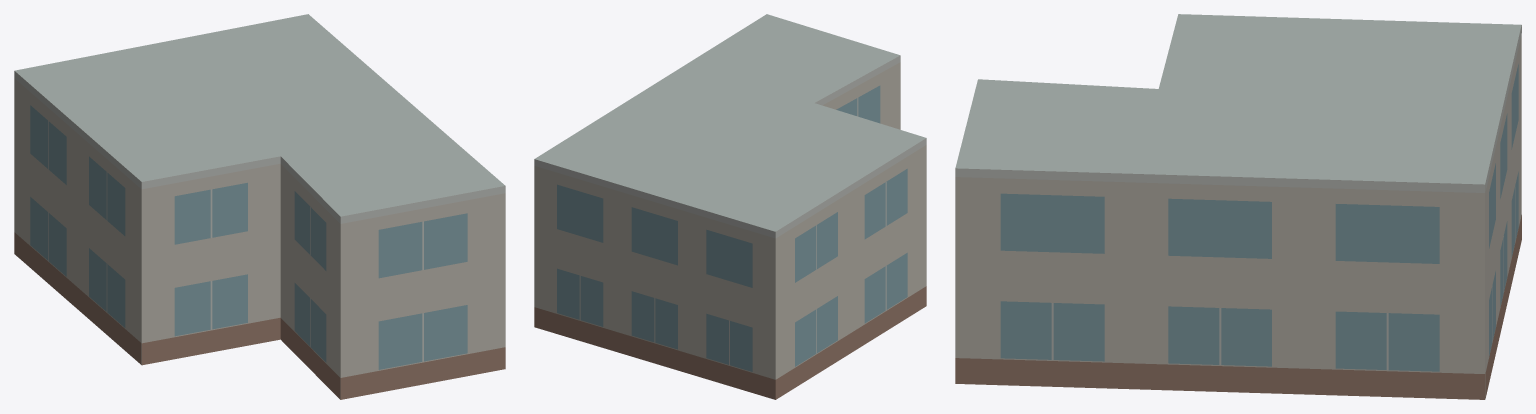
File: survey-upis-32761935.glb
3 renders of one model, left to right at view 1: azimuth 30°, elevation 25°; view 2: azimuth 150°, elevation 25°; view 3: azimuth 270°, elevation 25°, orthographic. The views are drawn at different scales.
Visible parts, largest first — view 1: survey-upis-32761935.tmp; view 2: survey-upis-32761935.tmp; view 3: survey-upis-32761935.tmp.
Part boxes in pixels (box(x1,y1,x2,y2)): survey-upis-32761935.tmp: box(14, 14, 505, 399); survey-upis-32761935.tmp: box(534, 14, 926, 399); survey-upis-32761935.tmp: box(955, 14, 1521, 399).
Size of the model in its own units: 10.37 by 6.1 by 14.55.
